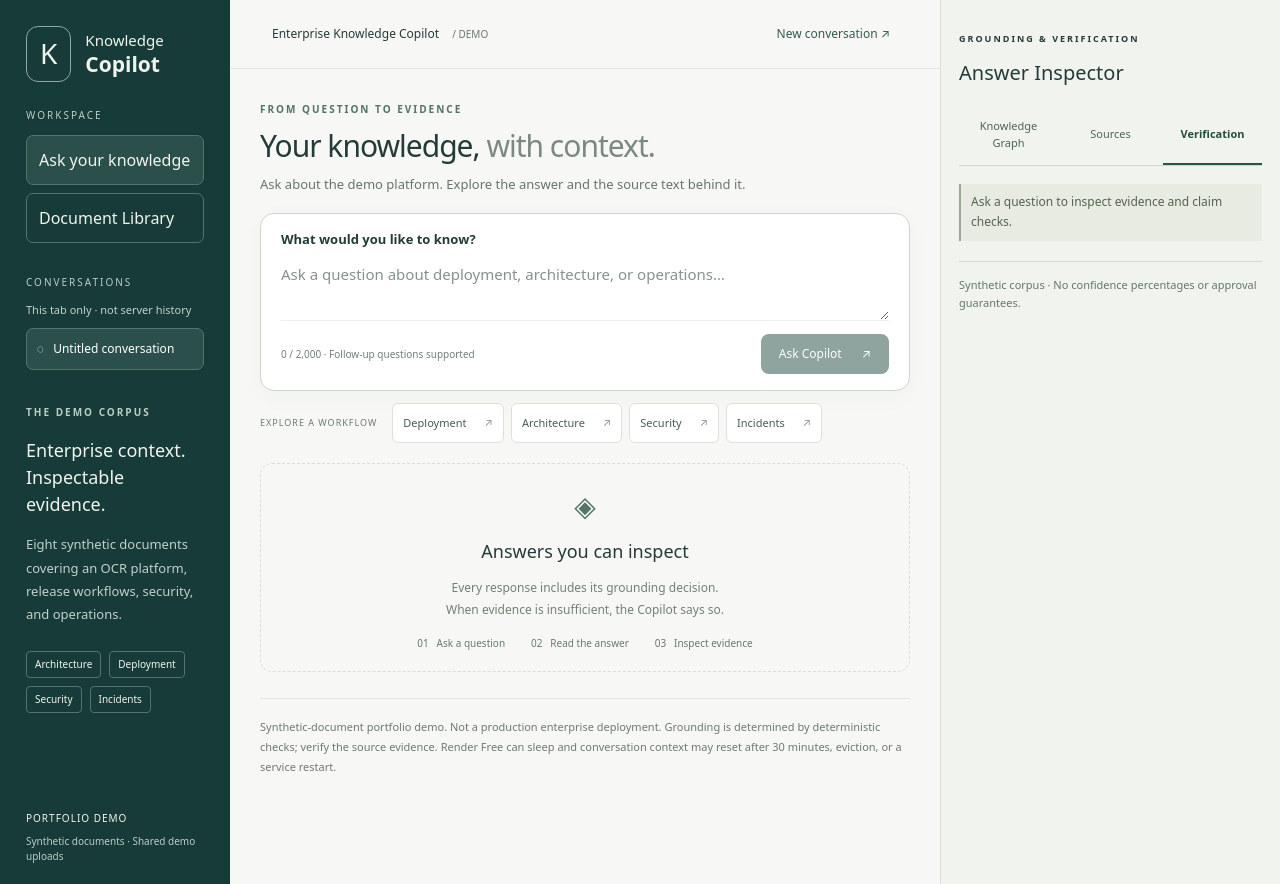
Test: workspace › renders live answer and verbatim citations; reuses server session then resets
The image size is (1280, 884).
Replace the text in the text box labelled "What would you like to know?" with "What are the steps to deploy?" at (585, 291), box [281, 262, 889, 320]
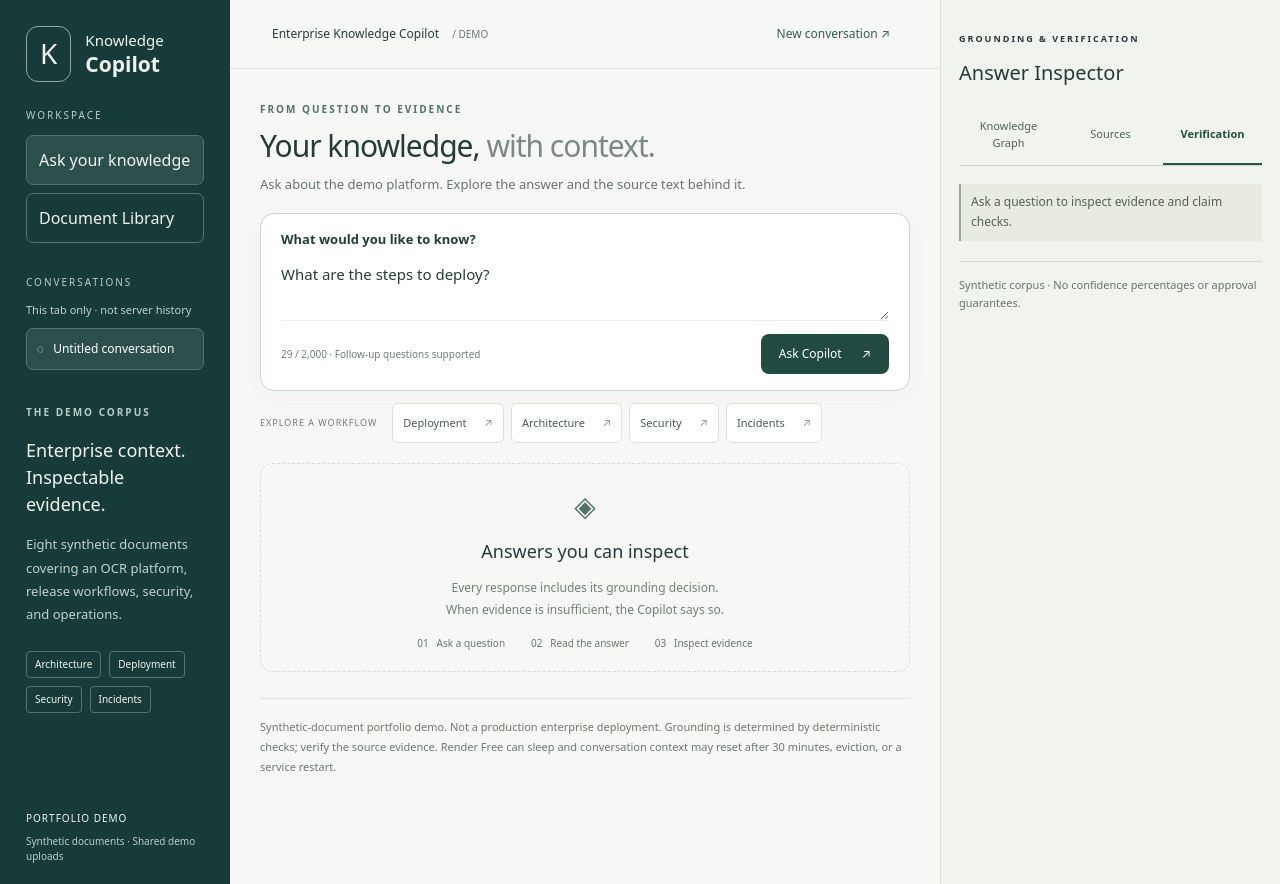
Click the button "Ask Copilot ↗" at (825, 354), box [761, 334, 889, 374]
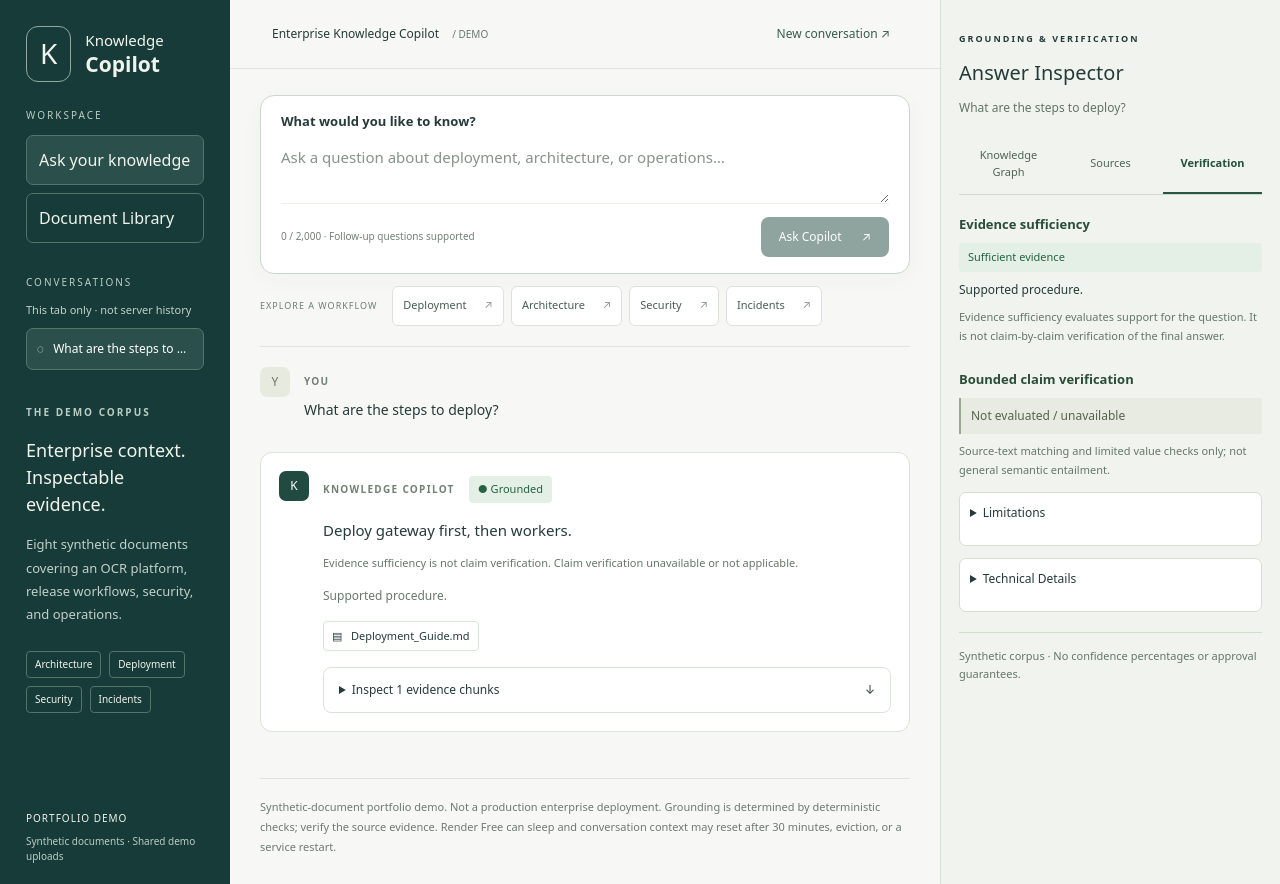
Check: the text "Deploy gateway first, then workers." is shown, box [323, 520, 572, 540]
Check: the text "● Grounded" is shown, box [469, 476, 552, 503]
Click the heading "Inspect 1 evidence chunks ↓" at (374, 690), box [352, 681, 875, 698]
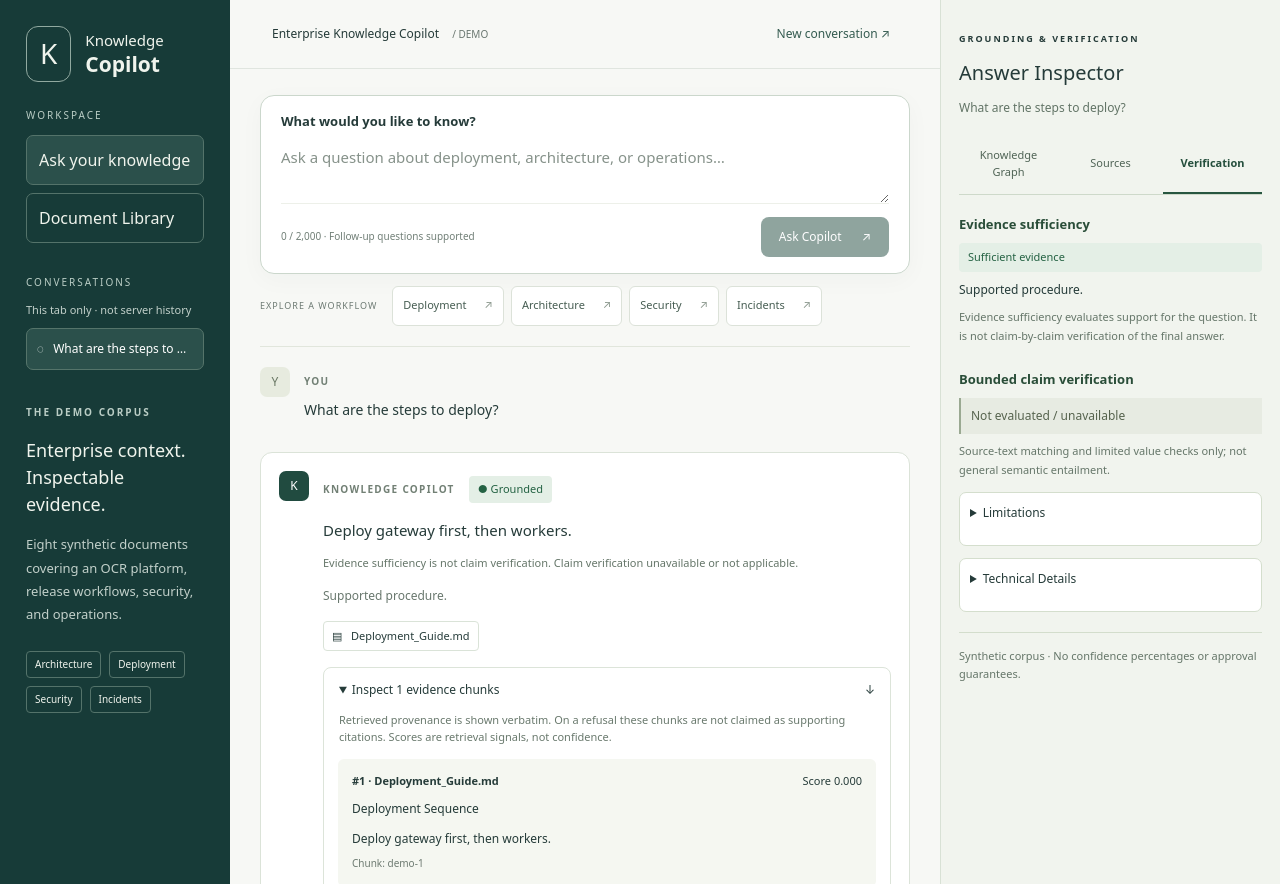
Check: the heading "Deployment Sequence" is shown, box [352, 800, 479, 817]
Replace the text in the text box labelled "What would you like to know?" with "What next?" at (585, 174), box [281, 144, 889, 202]
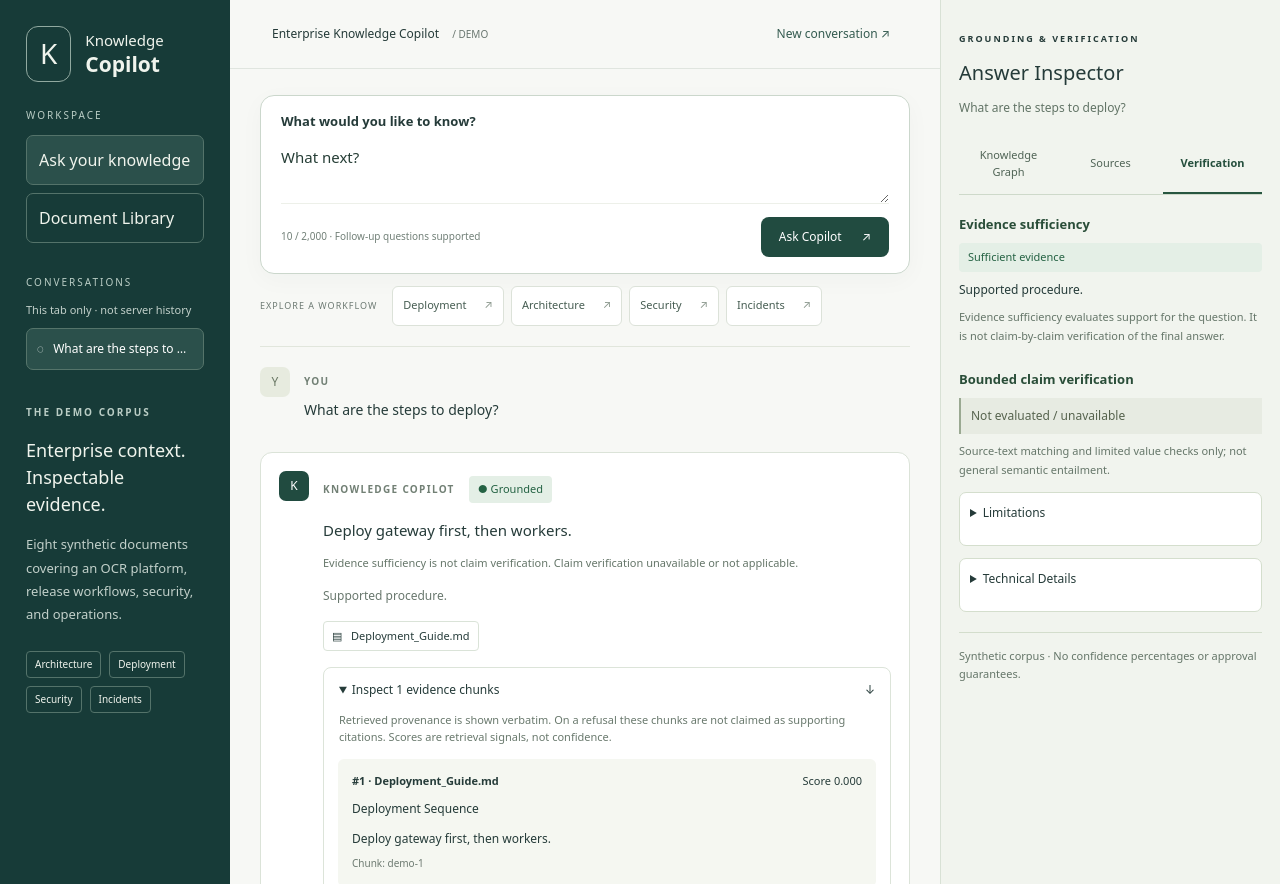
Click the button "Ask Copilot ↗" at (825, 236), box [761, 216, 889, 256]
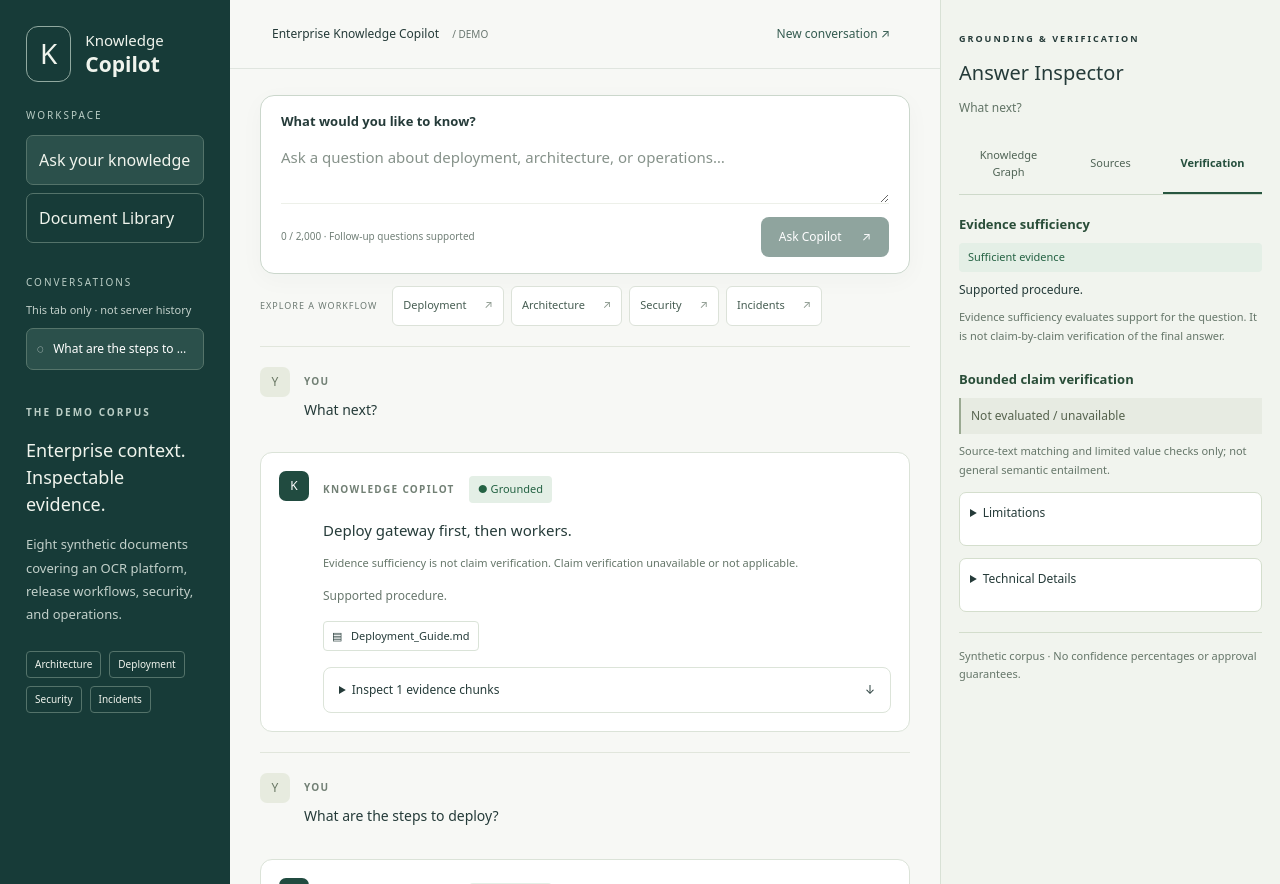
Click the button "New conversation ↗" at (833, 34), box [768, 14, 898, 54]
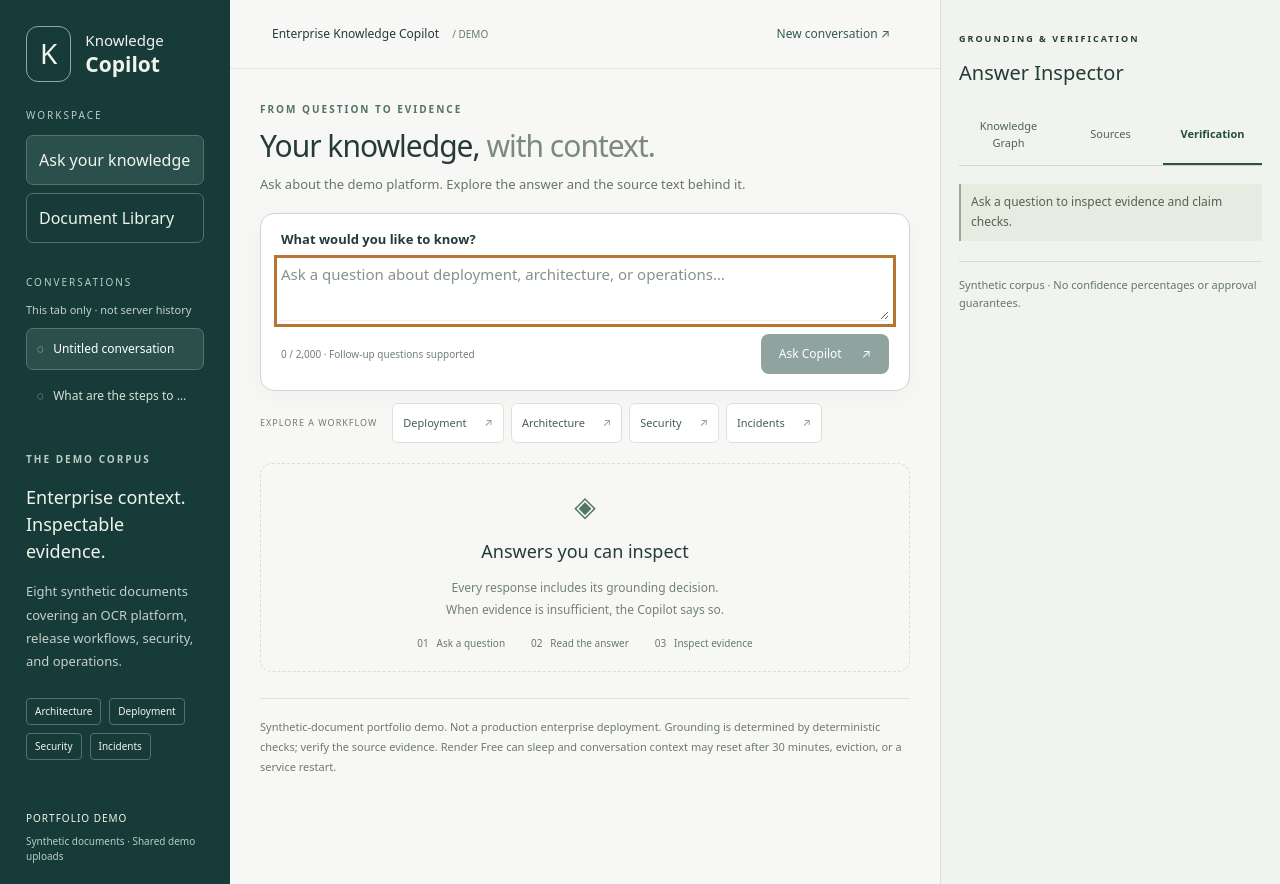
Check: the text "What next?" is gone
